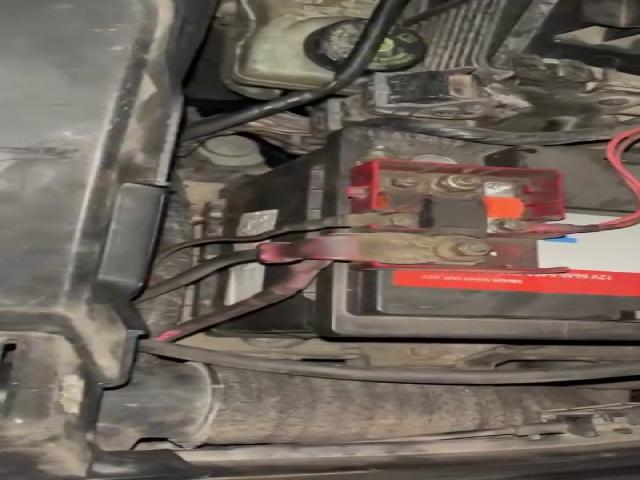accumulator: (187, 127, 634, 343)
